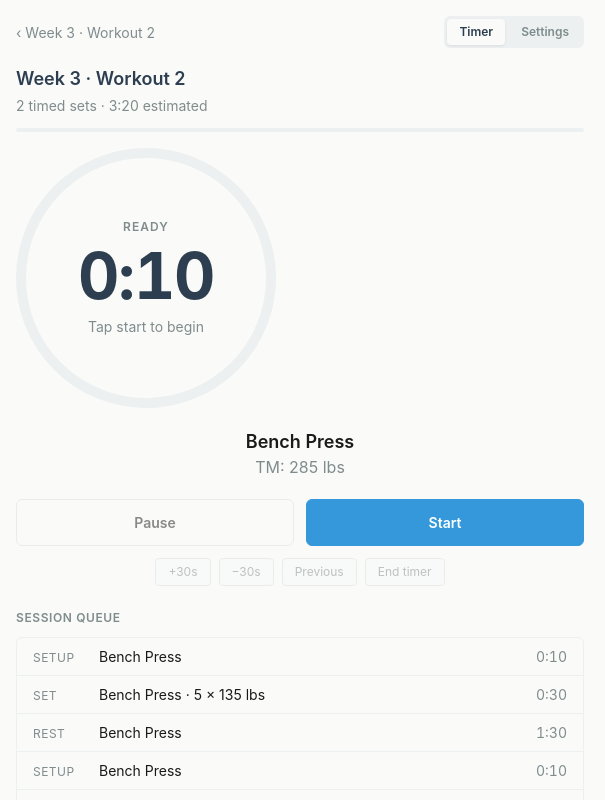
Test: WorkoutTimerView › ends the session with End timer
The width and height of the screenshot is (605, 800).
Click the button "Start" at [445, 522], box [306, 498, 584, 546]
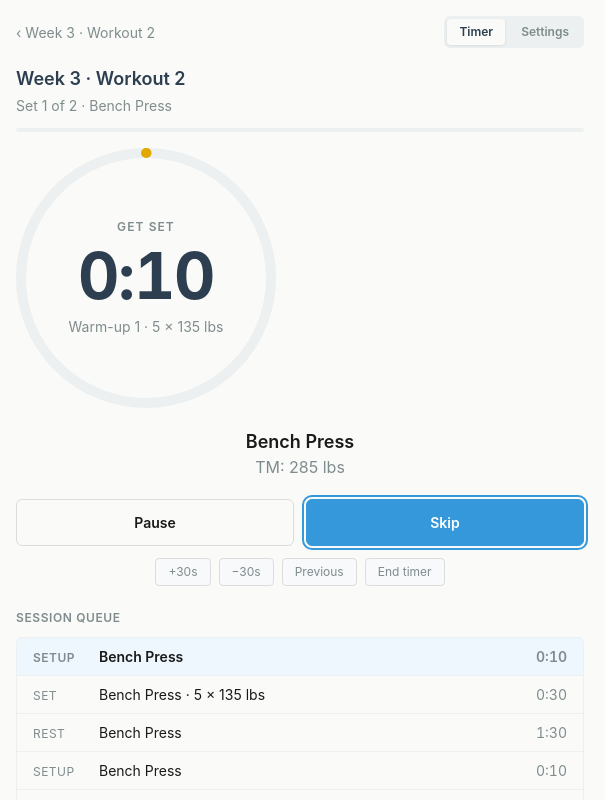
Click the button "End timer" at [405, 572], box [365, 558, 445, 586]
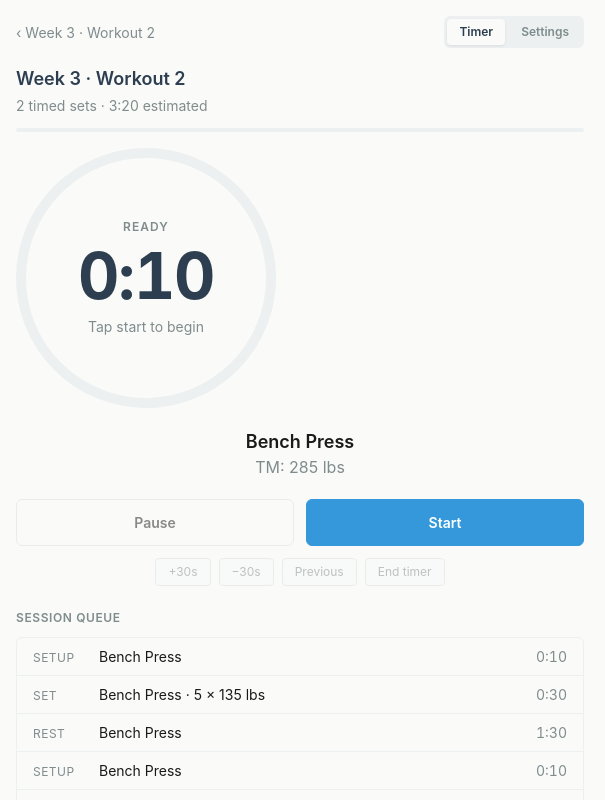
Now the button "Start" is shown, box [306, 498, 584, 546]
Now the text "Ready" is shown, box [123, 218, 169, 236]
